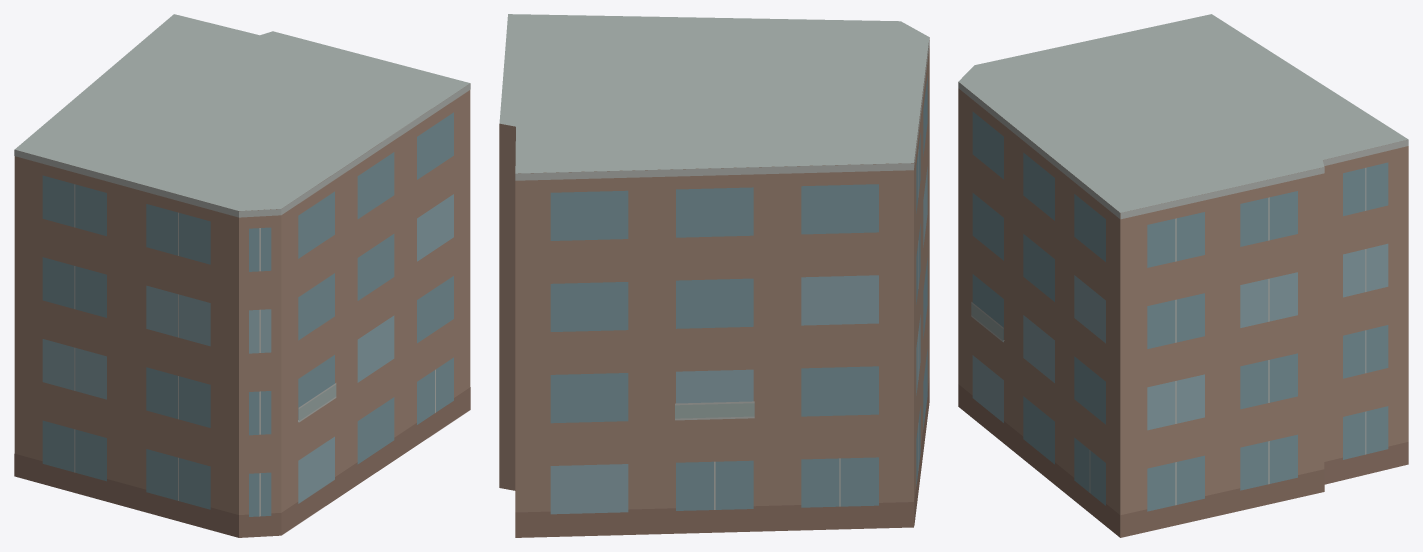
Rendered from survey-upis-32676598.glb.
3 renders of one model, left to right at view 1: azimuth 30°, elevation 25°; view 2: azimuth 150°, elevation 25°; view 3: azimuth 270°, elevation 25°, orthographic. The views are drawn at different scales.
Parts seen in each view (by area): view 1: survey-upis-32676598.tmp; view 2: survey-upis-32676598.tmp; view 3: survey-upis-32676598.tmp.
Boxes of the visible parts, x1,y1,x2,y2 form: survey-upis-32676598.tmp: (14,14,470,537); survey-upis-32676598.tmp: (499,14,929,537); survey-upis-32676598.tmp: (958,14,1408,537).
Bounding box in the file's own units: 16.16 × 12.3 × 15.46.
